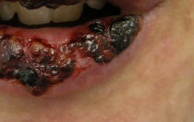SJS-TEN: (0, 10, 151, 104)
